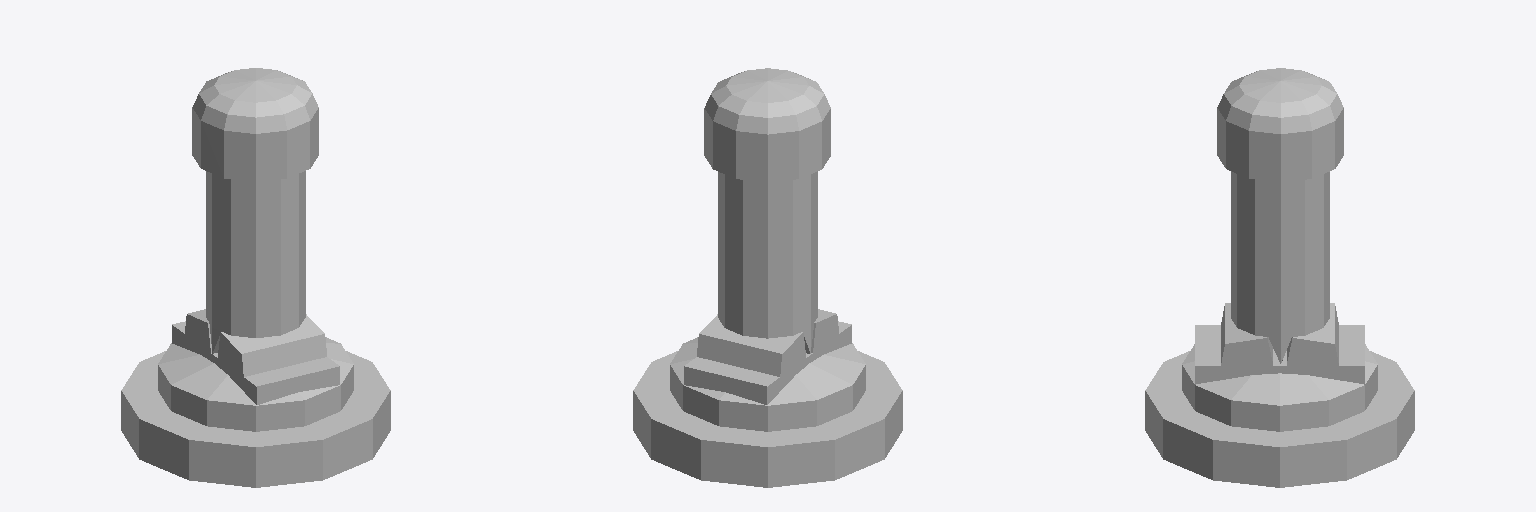
The model's file is Sw_Avionics - Auto.obj.
3 renders of one model, left to right at view 1: azimuth 30°, elevation 25°; view 2: azimuth 150°, elevation 25°; view 3: azimuth 270°, elevation 25°, orthographic.
Parts seen in each view (by area): view 1: Switch, LockNut, SwitchBase, LockTine, Slider; view 2: Switch, LockNut, SwitchBase, LockTine, Slider; view 3: Switch, LockNut, SwitchBase, Slider, LockTine.
Part boxes in pixels (x1,y1,x2,y2): Switch: (192,68,318,353); LockNut: (121,351,390,487); SwitchBase: (158,337,353,431); LockTine: (185,309,326,376); Slider: (172,321,339,404); Switch: (704,68,830,353); LockNut: (633,351,902,487); SwitchBase: (670,337,865,431); LockTine: (697,309,838,376); Slider: (684,321,851,404); Switch: (1217,68,1343,363); LockNut: (1145,351,1414,487); SwitchBase: (1182,344,1377,431); Slider: (1195,325,1364,384); LockTine: (1221,303,1338,365).
Bounding box in the file's own units: 6 × 8.61 × 6.